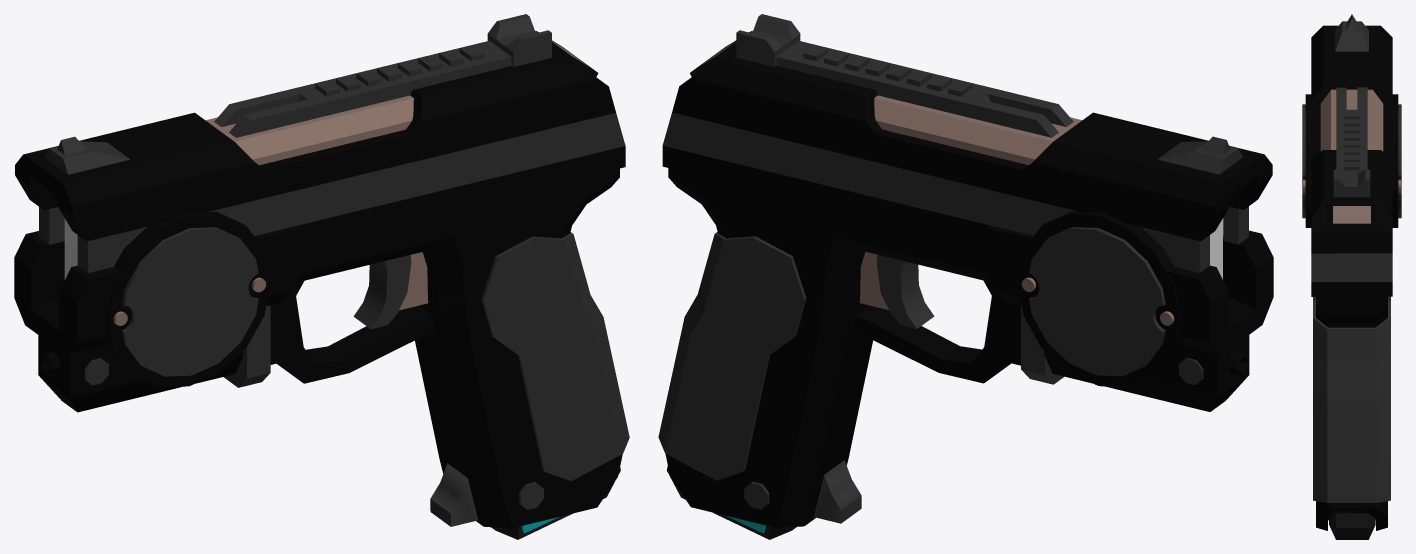
File: Pistol.fbx
3 renders of one model, left to right at view 1: azimuth 30°, elevation 25°; view 2: azimuth 150°, elevation 25°; view 3: azimuth 270°, elevation 25°, orthographic. The views are drawn at different scales.
Parts seen in each view (by area): view 1: Pistol, Pistol_Trigger; view 2: Pistol, Pistol_Trigger; view 3: Pistol, Pistol_Magazine.
Boxes of the visible parts, <box> form: Pistol: <box>14,14,629,528</box>; Pistol_Trigger: <box>353,252,428,329</box>; Pistol: <box>658,14,1273,527</box>; Pistol_Trigger: <box>859,251,934,328</box>; Pistol: <box>1302,14,1401,530</box>; Pistol_Magazine: <box>1329,513,1375,539</box>.
Bounding box in the file's own units: 40.53 × 34.08 × 8.62.
